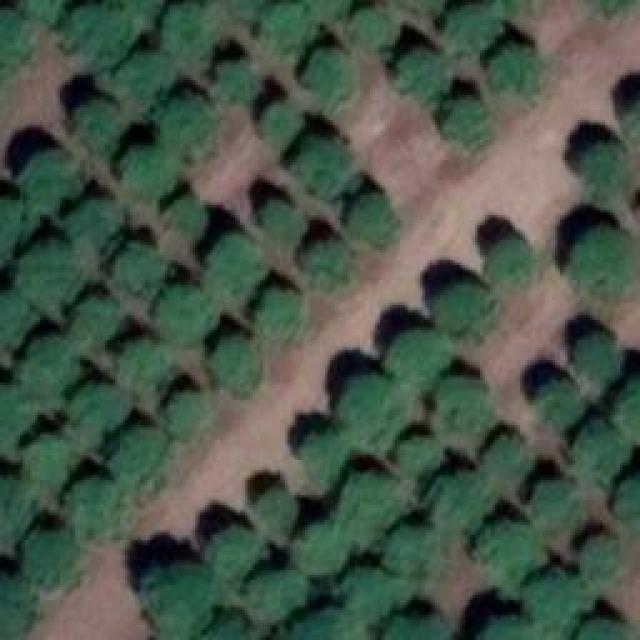Tree: (563, 225, 640, 304), (143, 558, 213, 633), (332, 463, 402, 538), (338, 365, 403, 438), (65, 480, 130, 548), (155, 90, 224, 153), (15, 240, 75, 312), (18, 333, 83, 399), (478, 513, 543, 578), (428, 373, 490, 441), (298, 523, 363, 585), (203, 520, 266, 582), (293, 135, 355, 198), (107, 424, 172, 484), (378, 523, 444, 582), (60, 3, 129, 59), (105, 233, 166, 296), (115, 140, 177, 200), (150, 288, 212, 348), (15, 150, 77, 209), (570, 418, 626, 483), (245, 568, 304, 629), (160, 2, 222, 60), (575, 138, 635, 197), (430, 278, 488, 339), (252, 0, 322, 50), (253, 285, 314, 342), (342, 558, 399, 619), (533, 565, 587, 628), (20, 528, 77, 587), (490, 40, 548, 97), (18, 437, 74, 494), (390, 328, 445, 386), (205, 235, 264, 289), (110, 58, 170, 111), (65, 385, 125, 438), (118, 338, 169, 399), (165, 388, 218, 446), (213, 334, 264, 394), (345, 196, 401, 250), (394, 45, 448, 101), (434, 470, 488, 526), (298, 232, 353, 286), (482, 230, 531, 289), (300, 48, 352, 102), (450, 3, 509, 50), (533, 380, 585, 433), (568, 328, 617, 383), (0, 480, 35, 556), (483, 435, 535, 486), (250, 100, 303, 150), (295, 605, 369, 640), (298, 420, 345, 475), (65, 298, 119, 345), (0, 577, 40, 640), (245, 483, 296, 532), (0, 381, 37, 448), (68, 198, 117, 248), (68, 97, 118, 144), (212, 53, 259, 102), (395, 435, 442, 484), (443, 92, 491, 139), (160, 195, 207, 243), (535, 478, 581, 525), (0, 7, 30, 79), (580, 530, 625, 576), (260, 195, 307, 239), (387, 610, 458, 639), (572, 607, 632, 640), (475, 613, 546, 640), (342, 8, 389, 45), (610, 380, 640, 428), (0, 200, 26, 254), (0, 290, 26, 344), (200, 617, 259, 640), (617, 475, 639, 516), (625, 92, 639, 150), (22, 0, 61, 19)
